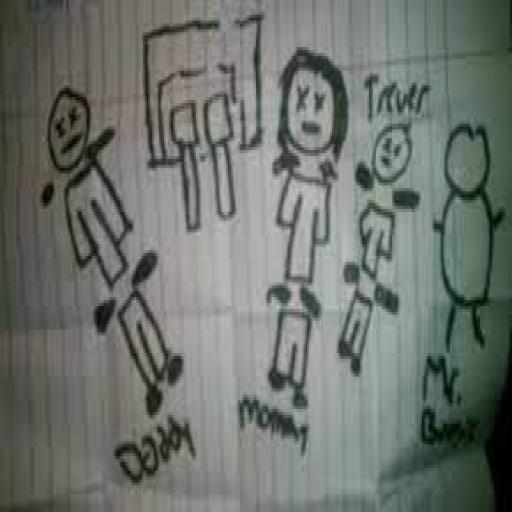person: (32, 80, 202, 426), (337, 55, 431, 389), (268, 40, 349, 413), (430, 118, 511, 366)
